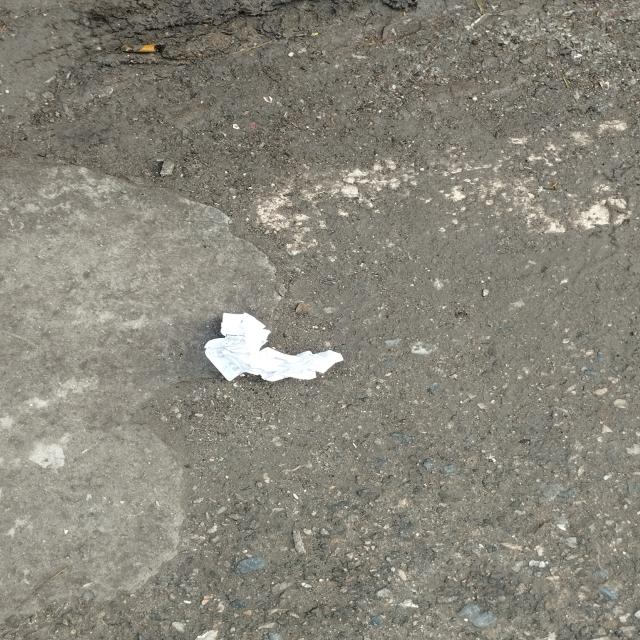paper: (188, 310, 346, 382)
